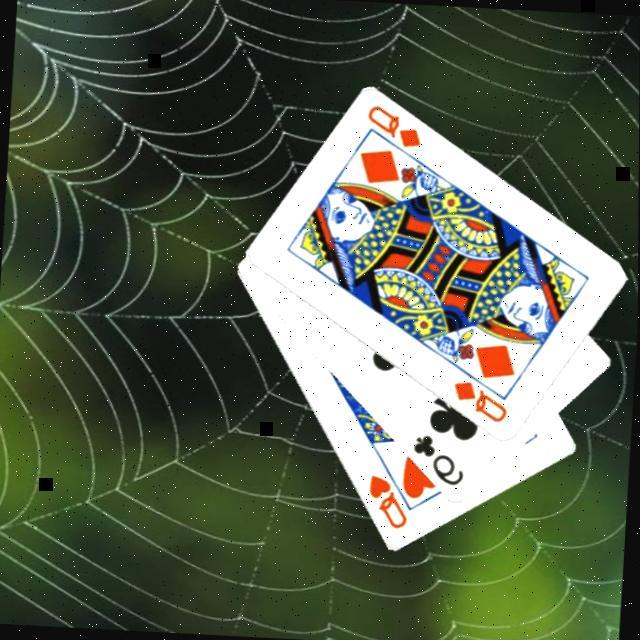6C: (406, 430, 469, 489)
QD: (446, 376, 511, 426), (361, 101, 425, 151)
QH: (362, 471, 412, 533)
